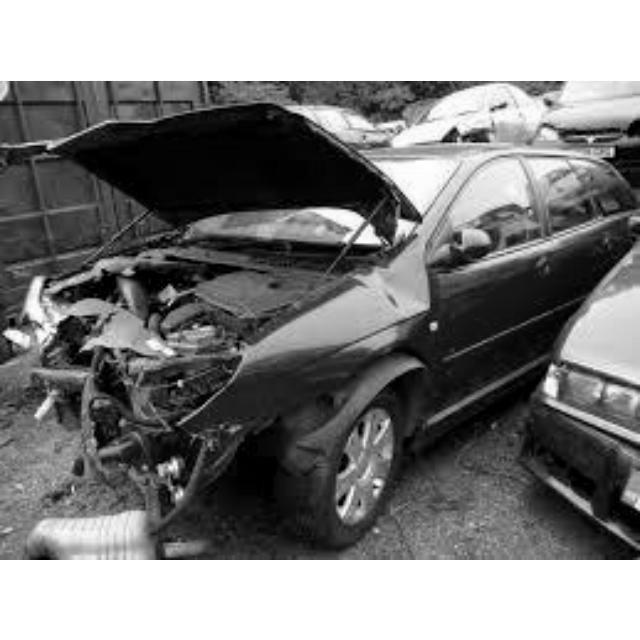bonnet-dent: (45, 101, 408, 246)
front-bumper-dent: (28, 365, 200, 456), (332, 261, 455, 374)
